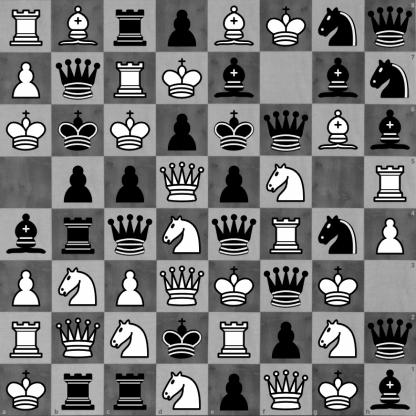B: (53, 1, 104, 52), (209, 1, 260, 52), (313, 105, 364, 156)
K: (0, 364, 52, 416), (312, 364, 364, 416), (1, 105, 52, 156), (105, 105, 156, 156), (157, 53, 208, 104), (209, 261, 260, 312), (261, 1, 312, 52), (313, 261, 364, 312)
N: (156, 364, 209, 416), (53, 261, 104, 312), (105, 313, 156, 364), (157, 209, 208, 260), (261, 157, 312, 208), (313, 313, 364, 364)
P: (364, 209, 416, 260), (1, 53, 52, 104), (1, 261, 52, 312), (105, 261, 156, 312)
Q: (260, 364, 312, 416), (53, 313, 104, 364), (157, 157, 208, 208), (157, 261, 208, 312)
R: (364, 156, 416, 209), (1, 1, 52, 52), (1, 313, 52, 364), (105, 53, 156, 104), (209, 313, 260, 364), (261, 209, 312, 260)
b: (364, 104, 416, 156), (364, 364, 416, 416), (1, 209, 52, 260), (209, 53, 260, 104), (313, 53, 364, 104)
board: (0, 0, 415, 415)
k: (53, 105, 104, 156), (157, 313, 208, 364), (209, 105, 260, 156)
n: (364, 52, 416, 104), (313, 1, 364, 52), (313, 209, 364, 260)
p: (209, 364, 260, 416), (53, 157, 104, 208), (105, 157, 156, 208), (157, 1, 208, 52), (157, 105, 208, 156), (209, 157, 260, 208), (261, 313, 312, 364)
q: (364, 0, 416, 52), (364, 312, 416, 364), (53, 53, 104, 104), (105, 209, 156, 260), (209, 209, 260, 260), (261, 105, 312, 156), (261, 261, 312, 312)
r: (52, 364, 104, 416), (104, 364, 156, 416), (53, 209, 104, 260), (105, 1, 156, 52)
